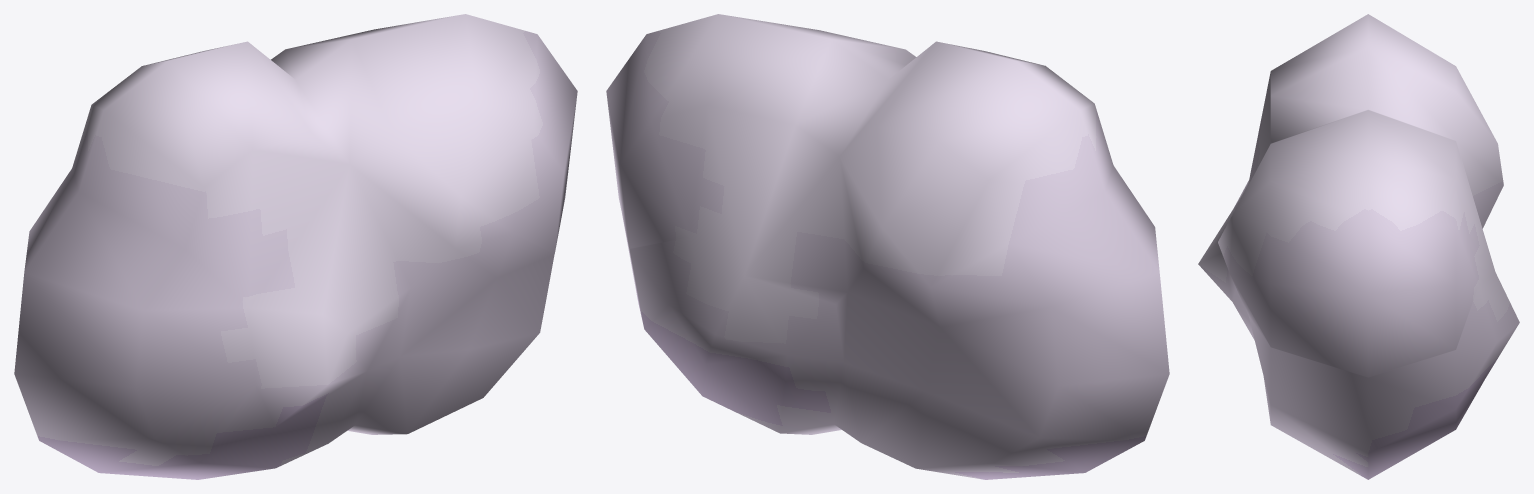
The model's file is depression.obj.
3 views of the same model, side by side, from view 1: azimuth 30°, elevation 25°; view 2: azimuth 150°, elevation 25°; view 3: azimuth 270°, elevation 25° (orthographic). The views are drawn at different scales.
Visible parts, largest first — view 1: cloud_body; view 2: cloud_body; view 3: cloud_body.
Boxes of the visible parts, left/top/right/bottom form: cloud_body: left=14, top=14, right=577, bottom=479; cloud_body: left=606, top=14, right=1169, bottom=479; cloud_body: left=1198, top=14, right=1519, bottom=479.
Size of the model in its own units: 0.7087 by 0.5125 by 0.4125.
1 material, 1 textured.
